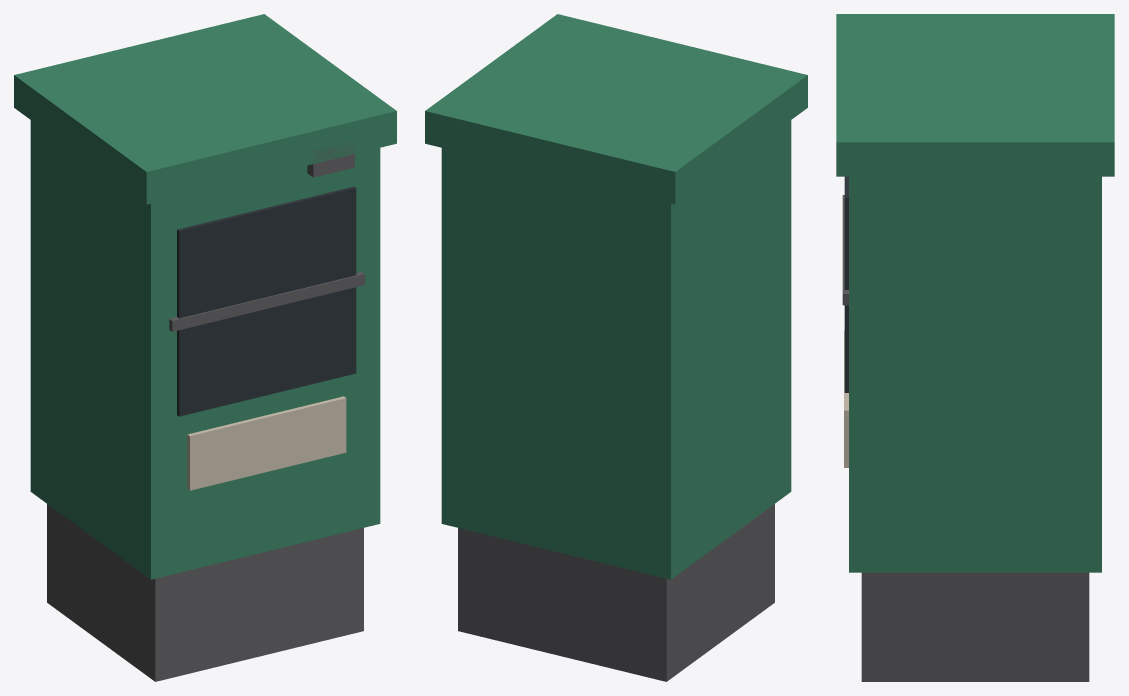
Rendered from NewsBox.glb.
3 renders of one model, left to right at view 1: azimuth 30°, elevation 25°; view 2: azimuth 150°, elevation 25°; view 3: azimuth 270°, elevation 25°, orthographic. The views are drawn at different scales.
Visible parts, largest first — view 1: NewsBox_cube, NewsBox_cube.001, NewsBox_cube.006, NewsBox_cube.002, NewsBox_cube.004, NewsBox_cube.003, NewsBox_cube.005; view 2: NewsBox_cube, NewsBox_cube.001, NewsBox_cube.006; view 3: NewsBox_cube, NewsBox_cube.001, NewsBox_cube.006, NewsBox_cube.002, NewsBox_cube.004.
Boxes of the visible parts, left/top/right/bottom form: NewsBox_cube: left=30, top=120, right=380, bottom=579; NewsBox_cube.001: left=14, top=14, right=396, bottom=204; NewsBox_cube.006: left=47, top=504, right=363, bottom=681; NewsBox_cube.002: left=177, top=186, right=356, bottom=416; NewsBox_cube.004: left=187, top=396, right=346, bottom=490; NewsBox_cube.003: left=169, top=272, right=365, bottom=331; NewsBox_cube.005: left=307, top=141, right=354, bottom=177; NewsBox_cube: left=441, top=120, right=791, bottom=579; NewsBox_cube.001: left=425, top=14, right=807, bottom=204; NewsBox_cube.006: left=458, top=504, right=774, bottom=681; NewsBox_cube: left=849, top=176, right=1101, bottom=572; NewsBox_cube.001: left=836, top=14, right=1114, bottom=176; NewsBox_cube.006: left=861, top=572, right=1089, bottom=681; NewsBox_cube.002: left=844, top=176, right=848, bottom=392; NewsBox_cube.004: left=844, top=330, right=848, bottom=467.
Bounding box in the file's own units: 0.48 × 0.96 × 0.44.
